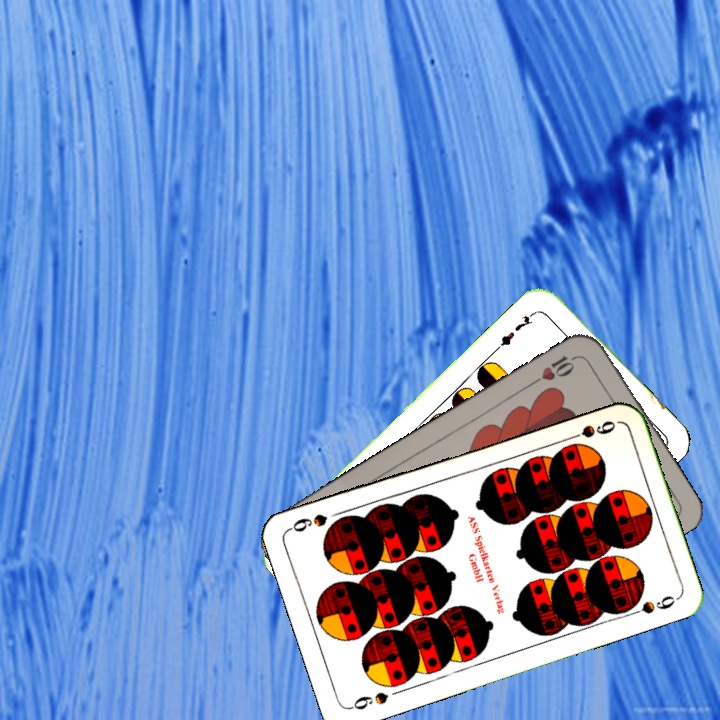E7: (492, 307, 539, 353)
H10: (528, 351, 582, 387)
S9: (561, 416, 619, 444), (345, 688, 392, 713)
